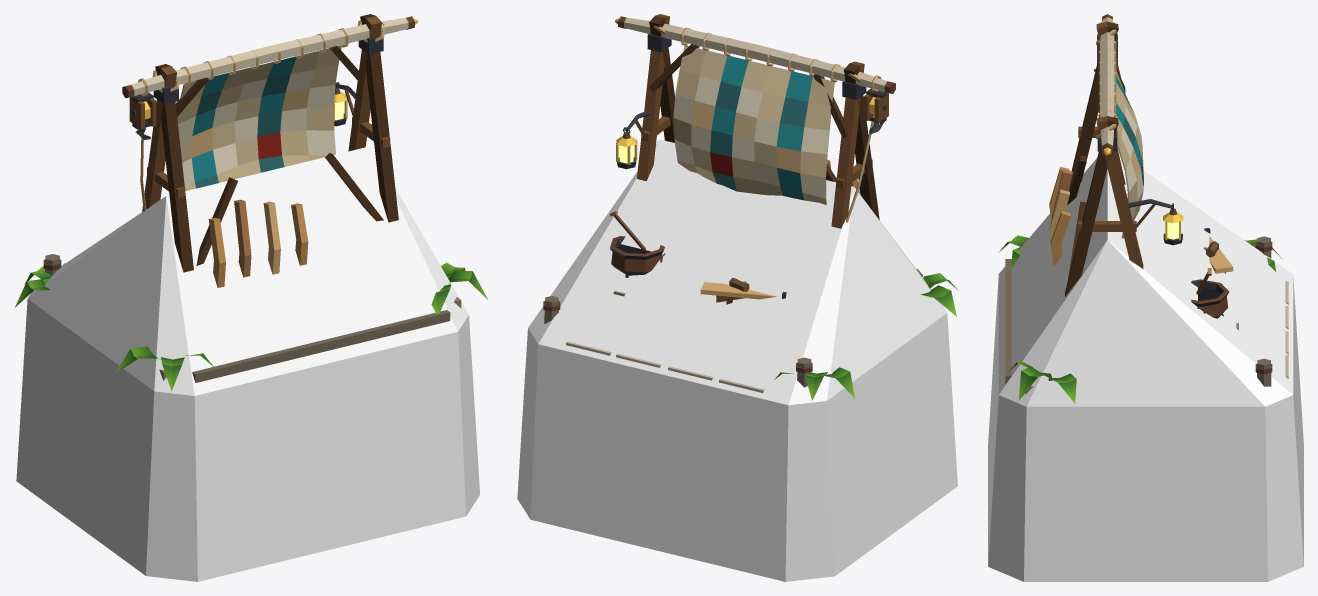
File: pirate_shipwright_timber_rack.glb
The picture shows the model from 3 angles, left to right: view 1: azimuth 30°, elevation 25°; view 2: azimuth 150°, elevation 25°; view 3: azimuth 270°, elevation 25°; orthographic projection. The views are drawn at different scales.
Parts seen in each view (by area): view 1: col_shipyard_base, PirateShipwrightTimberRack; view 2: col_shipyard_base, PirateShipwrightTimberRack; view 3: col_shipyard_base, PirateShipwrightTimberRack.
Boxes of the visible parts, <box> form: col_shipyard_base: <box>16,146,479,581</box>; PirateShipwrightTimberRack: <box>15,14,488,390</box>; col_shipyard_base: <box>517,139,957,581</box>; PirateShipwrightTimberRack: <box>543,14,957,400</box>; col_shipyard_base: <box>988,154,1303,581</box>; PirateShipwrightTimberRack: <box>998,14,1288,403</box>.
Size of the model in its own units: 5.94 by 7.22 by 4.76.
